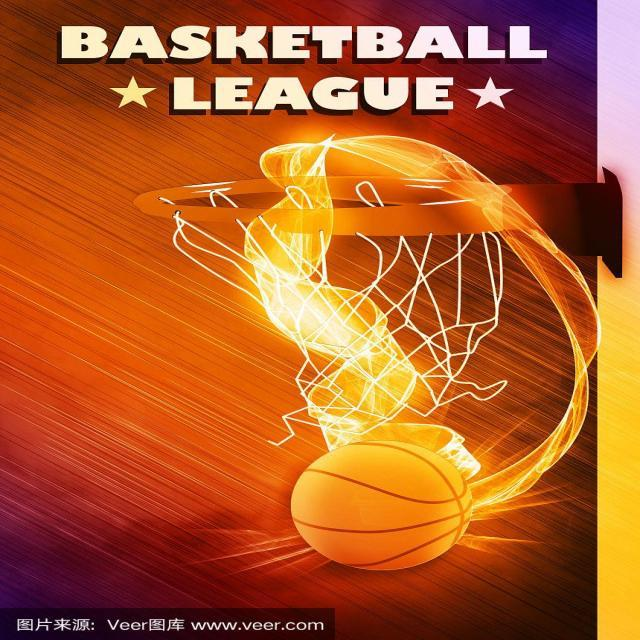rim: (286, 442, 477, 572)
